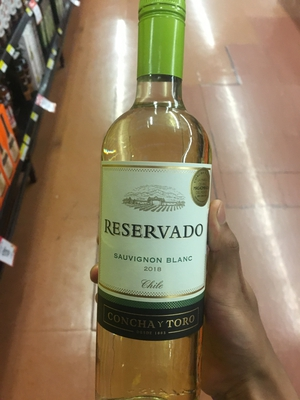reservado sauvignon blanc: (92, 5, 221, 389)
